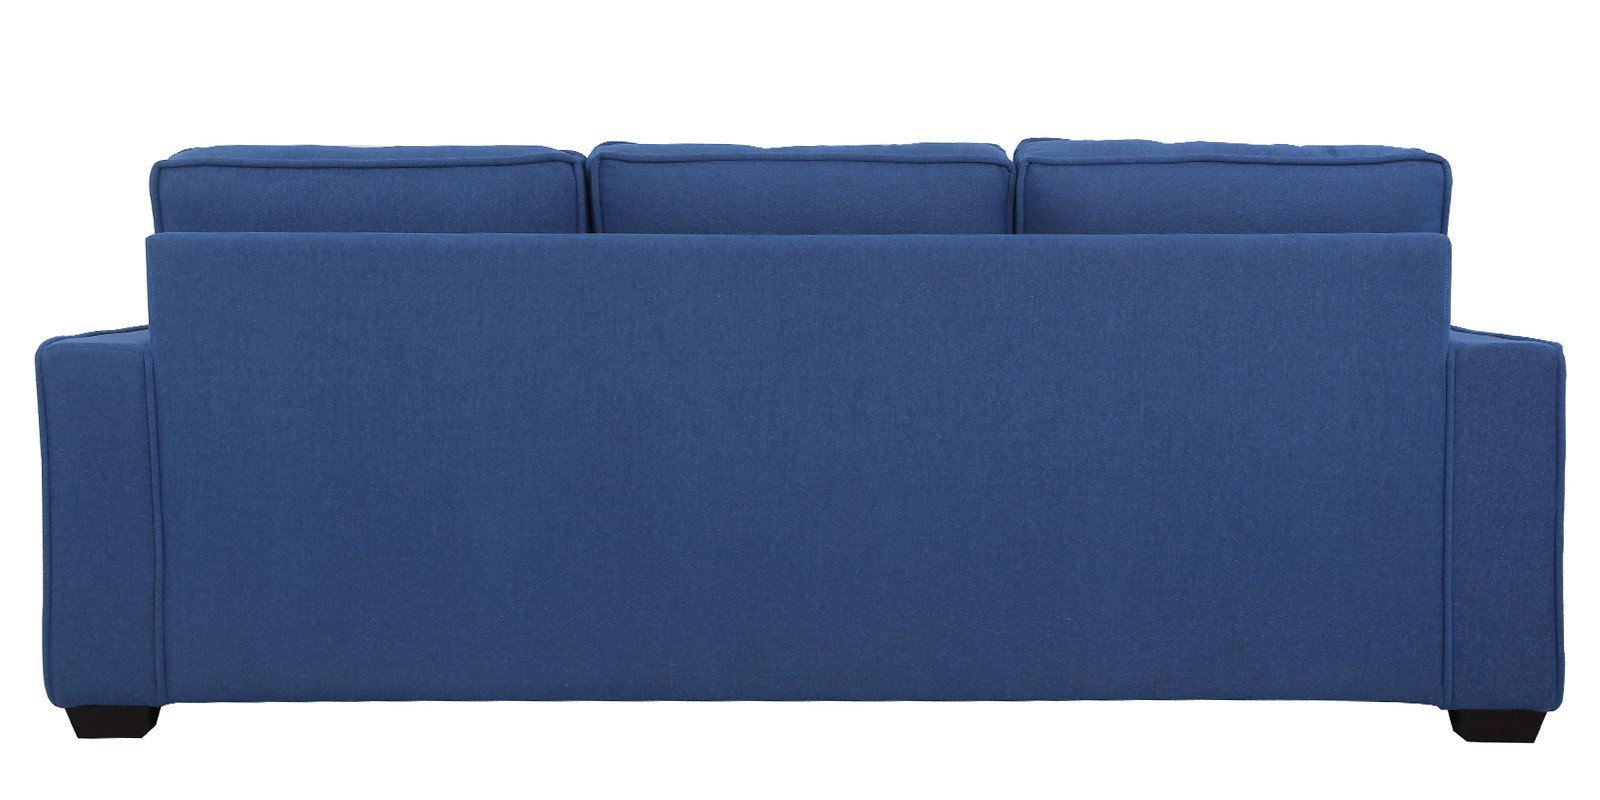Hugo Three Seater Sofa in Denim Blue Colour by CasaCraft: (21, 127, 1599, 768)
